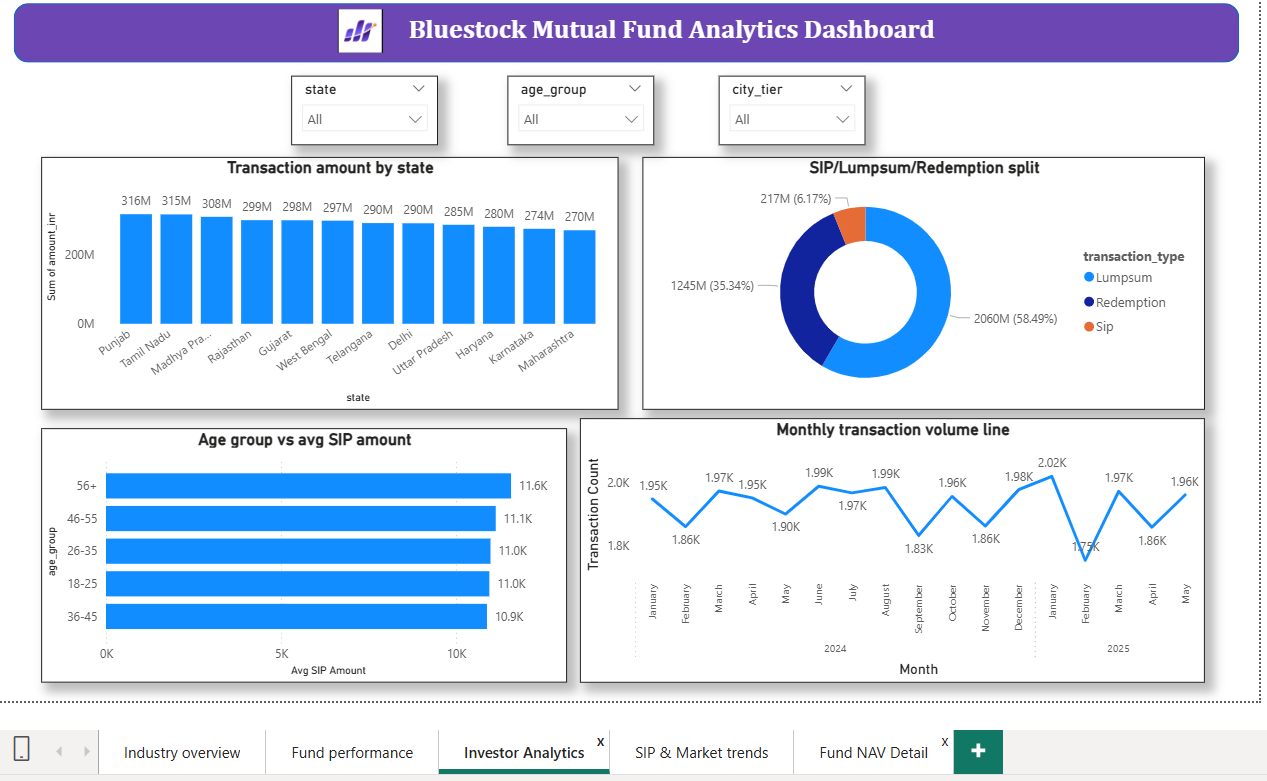

What the dashboard file says about the page in this screenshot:
{"tool":"powerbi","page":{"name":"Investor Analytics","canvas":[1297,723],"ordinal":2},"visuals":[{"type":"clusteredColumnChart","title":"Transaction amount by state","fields":{"Category":["investor_transactions_clean.state"],"Y":["Sum(investor_transactions_clean.amount_inr)"]},"box":[47.7,163.9,591.9,259.2],"z":0},{"type":"clusteredBarChart","title":"Age group vs avg SIP amount","fields":{"Category":["investor_transactions_clean.age_group"],"Y":["investor_transactions_clean.Avg SIP Amount"]},"box":[47.7,442.7,539.3,260.5],"z":1000},{"type":"donutChart","title":"SIP/Lumpsum/Redemption split","fields":{"Category":["investor_transactions_clean.transaction_type"],"Y":["Sum(investor_transactions_clean.amount_inr)"]},"box":[664,163.9,577.2,259.2],"z":2000},{"type":"lineChart","title":"Monthly transaction volume line","fields":{"Y":["investor_transactions_clean.Transaction Count"],"Category":["investor_transactions_clean.transaction_date.Variation.Date Hierarchy.Year","investor_transactions_clean.transaction_date.Variation.Date Hierarchy.Month"]},"box":[600.4,431.7,640.8,271.5],"z":3000},{"type":"slicer","fields":{"Values":["investor_transactions_clean.state"]},"box":[304.5,80.7,150.4,70.9],"z":3001},{"type":"slicer","fields":{"Values":["investor_transactions_clean.age_group"]},"box":[525.8,80.7,150.4,70.9],"z":3002},{"type":"slicer","fields":{"Values":["investor_transactions_clean.city_tier"]},"box":[742.3,80.7,150.4,70.9],"z":3003},{"type":"shape","box":[19,6.3,1257,60.8],"z":3004},{"type":"textbox","box":[419,11.4,583.5,50.6],"z":3005},{"type":"image","box":[343,7.6,62,54.4],"z":3006}]}

Visuals, with their boxes on the page's 1297x723 design canvas (x1, y1, x2, y2). These are canvas units, not pixel positions in the 1267x781 screenshot, which may show the page scaled, cropped or inside an application window:
"Transaction amount by state" clusteredColumnChart: bbox(48, 164, 640, 423)
"Age group vs avg SIP amount" clusteredBarChart: bbox(48, 443, 587, 703)
"SIP/Lumpsum/Redemption split" donutChart: bbox(664, 164, 1241, 423)
"Monthly transaction volume line" lineChart: bbox(600, 432, 1241, 703)
slicer - investor_transactions_clean.state: bbox(304, 81, 455, 152)
slicer - investor_transactions_clean.age_group: bbox(526, 81, 676, 152)
slicer - investor_transactions_clean.city_tier: bbox(742, 81, 893, 152)
shape: bbox(19, 6, 1276, 67)
textbox: bbox(419, 11, 1002, 62)
image: bbox(343, 8, 405, 62)
